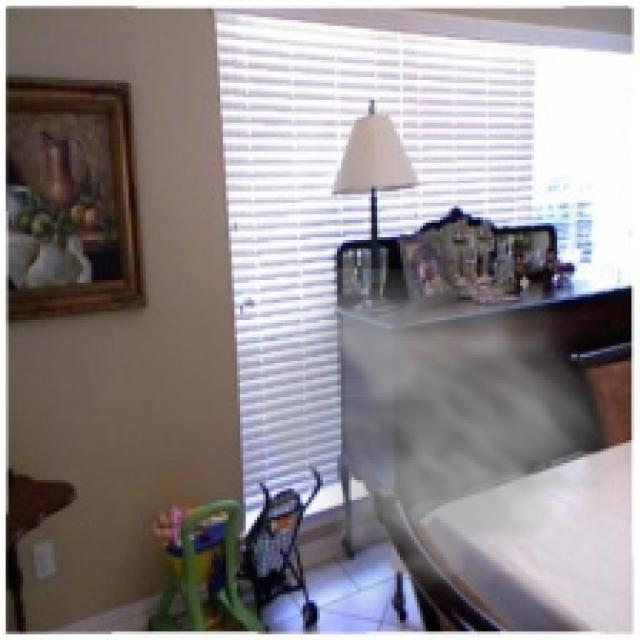smoke: (229, 268, 634, 623)
